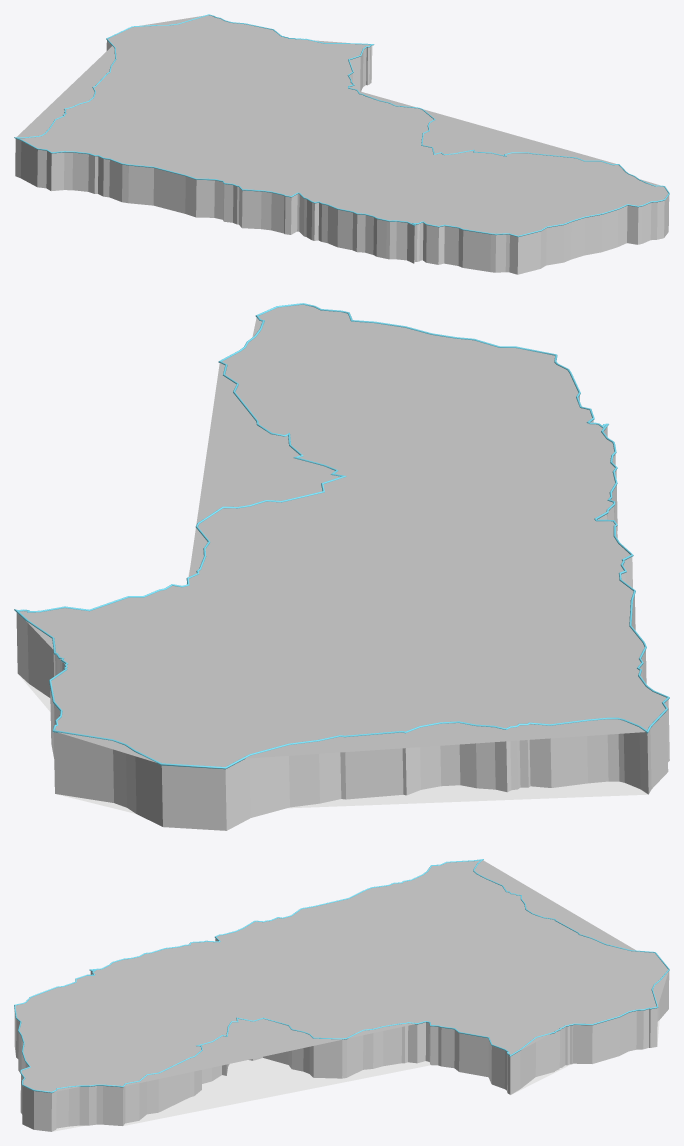
Rendered from 阿巴嘎旗DG.obj.
3 views of the same model, one above another, from view 1: azimuth 30°, elevation 25°; view 2: azimuth 150°, elevation 25°; view 3: azimuth 270°, elevation 25° (orthographic). The views are drawn at different scales.
Parts seen in each view (by area): view 1: ??_1, ??; view 2: ??_1, ??; view 3: ??_1, ??.
Part boxes in pixels (left/top/right/bottom): ??_1: left=15, top=15, right=669, bottom=274; ??: left=14, top=14, right=669, bottom=237; ??_1: left=16, top=304, right=669, bottom=830; ??: left=14, top=303, right=669, bottom=769; ??_1: left=14, top=860, right=669, bottom=1131; ??: left=14, top=859, right=669, bottom=1093.
Bounding box in the file's own units: 263 × 25.8 × 322.
